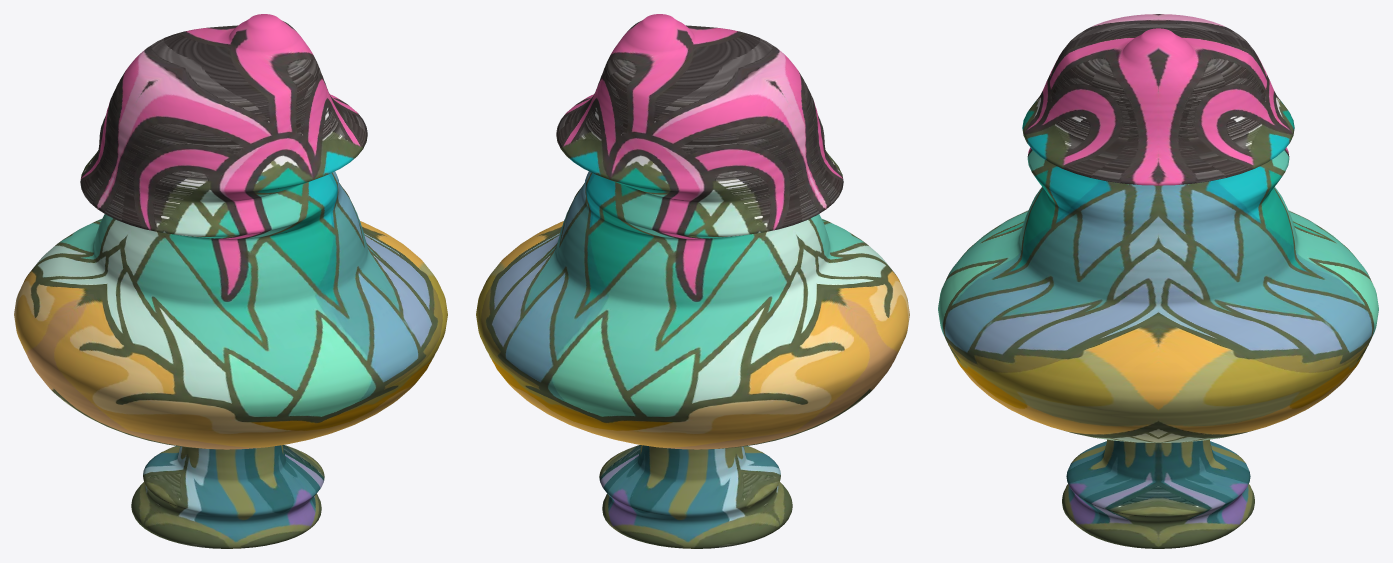
The model's file is cone_planter.glb.
3 views of the same model, side by side, from view 1: azimuth 30°, elevation 25°; view 2: azimuth 150°, elevation 25°; view 3: azimuth 270°, elevation 25° (orthographic).
Visible parts, largest first — view 1: cone_planter; view 2: cone_planter; view 3: cone_planter.
Part boxes in pixels (<box>): cone_planter: <box>14,14,447,548</box>; cone_planter: <box>476,14,909,548</box>; cone_planter: <box>938,14,1378,548</box>.
Size of the model in its own units: 0.9983 by 1.29 by 0.9983.
Materials: 1 (1 with a texture image).
